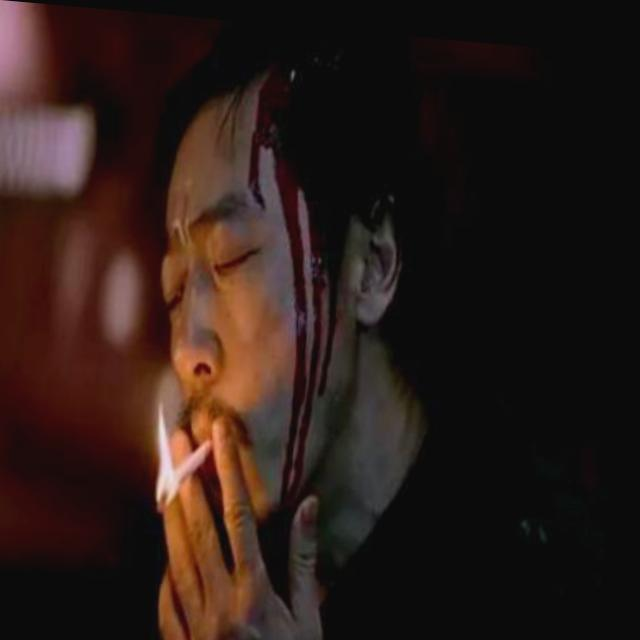cigarette: (161, 430, 222, 510)
